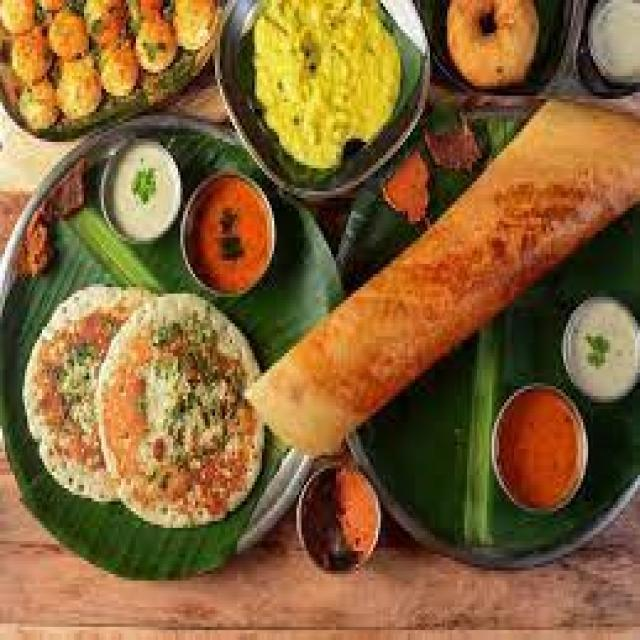dal: (241, 5, 403, 169)
pickle: (14, 211, 61, 280)
sambar-rasam: (489, 386, 591, 510), (291, 457, 388, 571)
sweet: (432, 3, 560, 101), (290, 460, 391, 572), (166, 0, 225, 50)
veg-fry: (74, 284, 254, 538), (234, 0, 412, 181)
